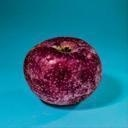apple: (23, 36, 103, 107)
